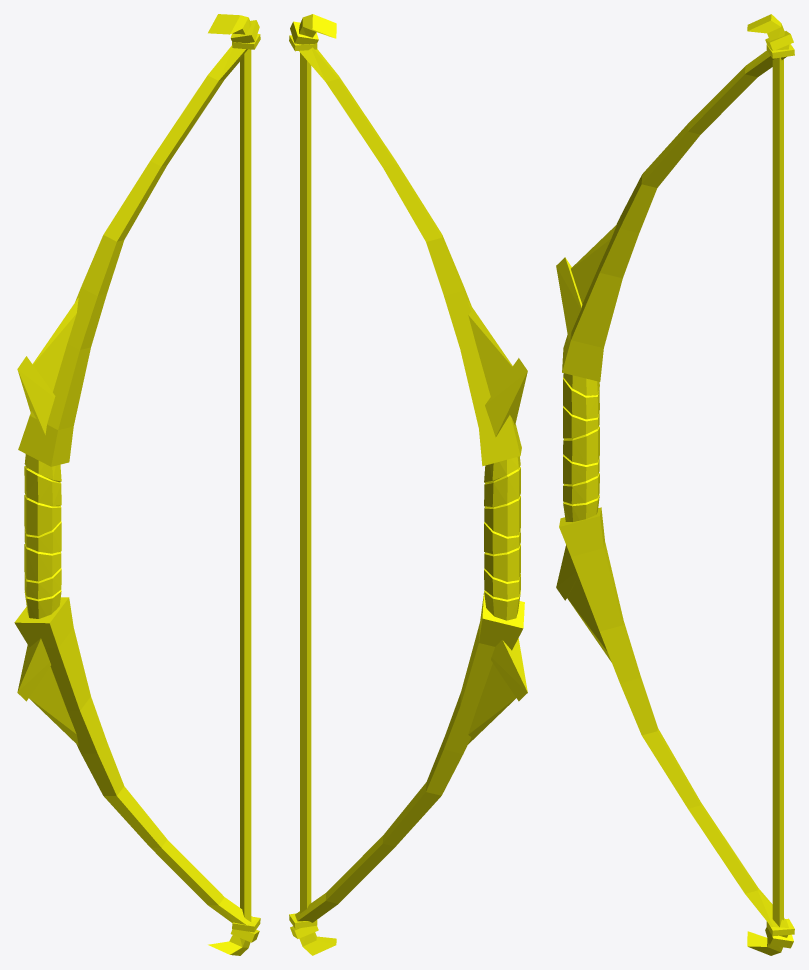
The model's file is _bow_14.glb.
The picture shows the model from 3 angles, left to right: view 1: azimuth 30°, elevation 25°; view 2: azimuth 150°, elevation 25°; view 3: azimuth 330°, elevation 25°; orthographic projection.
Parts seen in each view (by area): view 1: bow_14; view 2: bow_14; view 3: bow_14.
Boxes of the visible parts, x1=… form: bow_14: x1=14, y1=14, x2=260, y2=955; bow_14: x1=289, y1=14, x2=527, y2=955; bow_14: x1=556, y1=14, x2=794, y2=955.
Bounding box in the file's own units: 0.248 × 0.9223 × 0.052.
1 material, 1 textured.
